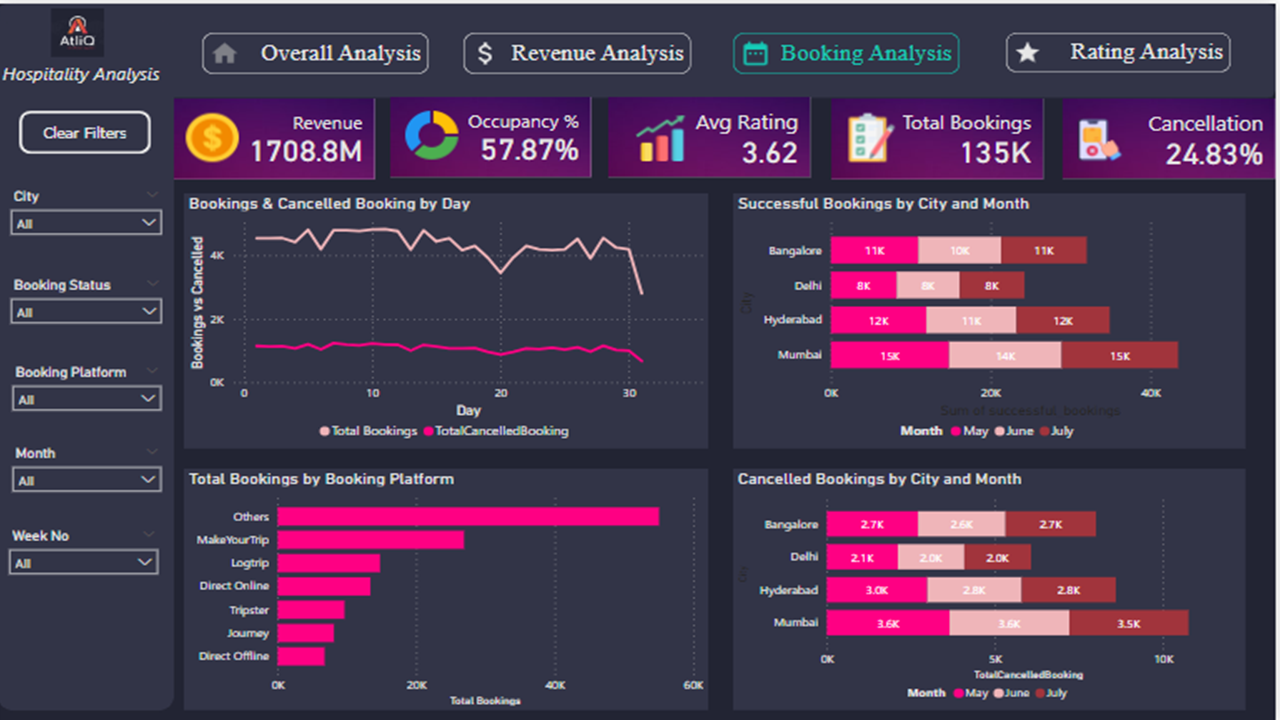

The page's visual inventory and layout, read from the dashboard file:
{"tool":"powerbi","page":{"name":"Booking Analysis","canvas":[1280,784],"ordinal":2},"visuals":[{"type":"shape","box":[0,0,1280,103.3],"z":0},{"type":"shape","box":[0,18.3,176.7,751.7],"z":1000},{"type":"actionButton","box":[205,31.7,226.7,45],"z":2000},{"type":"actionButton","box":[466.7,31.7,228.3,45],"z":3000},{"type":"actionButton","box":[736.7,31.7,226.7,45],"z":4000},{"type":"actionButton","box":[1010,31.7,225,43.3],"z":5000},{"type":"image","box":[36.7,0,86.7,63.3],"z":6000},{"type":"textbox","box":[0,58.3,205,45],"z":7000},{"type":"actionButton","box":[21.7,116.7,131.7,46.7],"z":8000},{"type":"cardVisual","fields":{"Data":["fact_bookings.Revenue"]},"box":[176.7,102.8,201.3,88.3],"z":9000},{"type":"cardVisual","fields":{"Data":["fact_aggregated_bookings.Occupancy%"]},"box":[393.3,102.2,201.1,87.8],"z":10000},{"type":"cardVisual","fields":{"Data":["fact_bookings.AverageRating"]},"box":[611.1,102.2,202.2,87.8],"z":11000},{"type":"cardVisual","fields":{"Data":["fact_bookings.TotalBookings"]},"box":[835.7,102.9,212.9,88.6],"z":12000},{"type":"cardVisual","fields":{"Data":["fact_bookings.Cancellation%"]},"box":[1066.7,103.3,213.3,87.8],"z":13000},{"type":"lineChart","title":"Bookings & Cancelled Booking by Day","fields":{"Category":["dim_date.date.Variation.Date Hierarchy.Day"],"Y":["fact_bookings.Total Bookings","fact_bookings.TotalCancelledBooking"]},"box":[186.7,206.7,525,278.3],"z":14000},{"type":"barChart","title":"Successful Bookings by City and Month","fields":{"Category":["dim_hotels.city","dim_date.date.Variation.Date Hierarchy.Month"],"Y":["Sum(fact_aggregated_bookings.successful_bookings)"],"Series":["dim_date.date.Variation.Date Hierarchy.Month"]},"box":[736.7,206.7,513.3,278.3],"z":15000},{"type":"barChart","title":"Total Bookings by Booking Platform","fields":{"Category":["fact_bookings.booking_platform"],"Y":["fact_bookings.Total Bookings"]},"box":[186.7,506.7,525,263.3],"z":16000},{"type":"barChart","title":"Cancelled Bookings by City and Month","fields":{"Category":["dim_hotels.city","dim_date.date.Variation.Date Hierarchy.Month"],"Series":["dim_date.date.Variation.Date Hierarchy.Month"],"Y":["fact_bookings.TotalCancelledBooking"]},"box":[736.7,506.7,513.3,263.3],"z":17000},{"type":"slicer","fields":{"Values":["dim_hotels.city"]},"box":[3.1,196.7,171,64],"z":19001},{"type":"slicer","fields":{"Values":["fact_bookings.booking_status"]},"box":[2.9,292.9,171.4,64.3],"z":19002},{"type":"slicer","fields":{"Values":["fact_bookings.booking_platform"]},"box":[5.7,388.6,168.6,64.3],"z":19003},{"type":"slicer","fields":{"Values":["dim_date.date.Variation.Date Hierarchy.Month"]},"box":[5.7,477.1,168.6,64.3],"z":19004},{"type":"slicer","fields":{"Values":["dim_date.week no"]},"box":[1.4,567.1,168.6,64.3],"z":19005}]}

Visuals, with their boxes on the page's 1280x784 design canvas (x1, y1, x2, y2). These are canvas units, not pixel positions in the 1280x720 screenshot, which may show the page scaled, cropped or inside an application window:
shape: 0:0:1280:103
shape: 0:18:177:770
actionButton: 205:32:432:77
actionButton: 467:32:695:77
actionButton: 737:32:963:77
actionButton: 1010:32:1235:75
image: 37:0:123:63
textbox: 0:58:205:103
actionButton: 22:117:153:163
cardVisual - fact_bookings.Revenue: 177:103:378:191
cardVisual - fact_aggregated_bookings.Occupancy%: 393:102:594:190
cardVisual - fact_bookings.AverageRating: 611:102:813:190
cardVisual - fact_bookings.TotalBookings: 836:103:1049:192
cardVisual - fact_bookings.Cancellation%: 1067:103:1280:191
"Bookings & Cancelled Booking by Day" lineChart: 187:207:712:485
"Successful Bookings by City and Month" barChart: 737:207:1250:485
"Total Bookings by Booking Platform" barChart: 187:507:712:770
"Cancelled Bookings by City and Month" barChart: 737:507:1250:770
slicer - dim_hotels.city: 3:197:174:261
slicer - fact_bookings.booking_status: 3:293:174:357
slicer - fact_bookings.booking_platform: 6:389:174:453
slicer - dim_date.date.Variation.Date Hierarchy.Month: 6:477:174:541
slicer - dim_date.week no: 1:567:170:631
